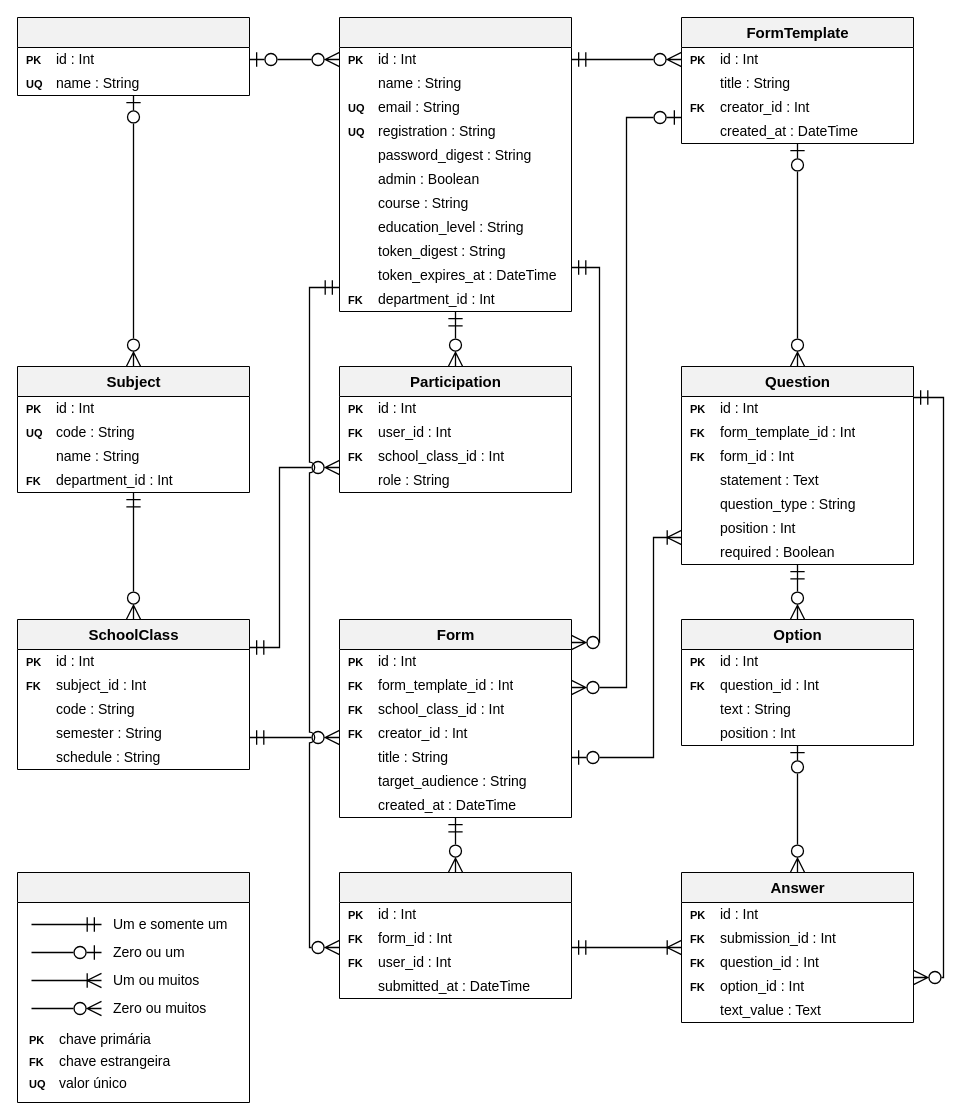
The diagram is 977 pixels wide and 1120 high, and some of its shapes have lost their labels. Here are the shapes that lost their labels. From the top down, the box of each, then its label:
(16, 16, 250, 96): Department
(338, 16, 572, 312): User
(338, 872, 572, 998): Submission
(16, 872, 250, 1102): Legenda
